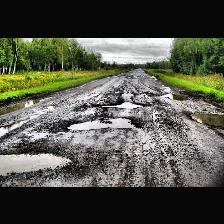pothole: (0, 150, 74, 176), (66, 116, 142, 130), (188, 110, 224, 128), (100, 100, 144, 108), (160, 90, 188, 100), (121, 91, 135, 95), (150, 74, 158, 78)
